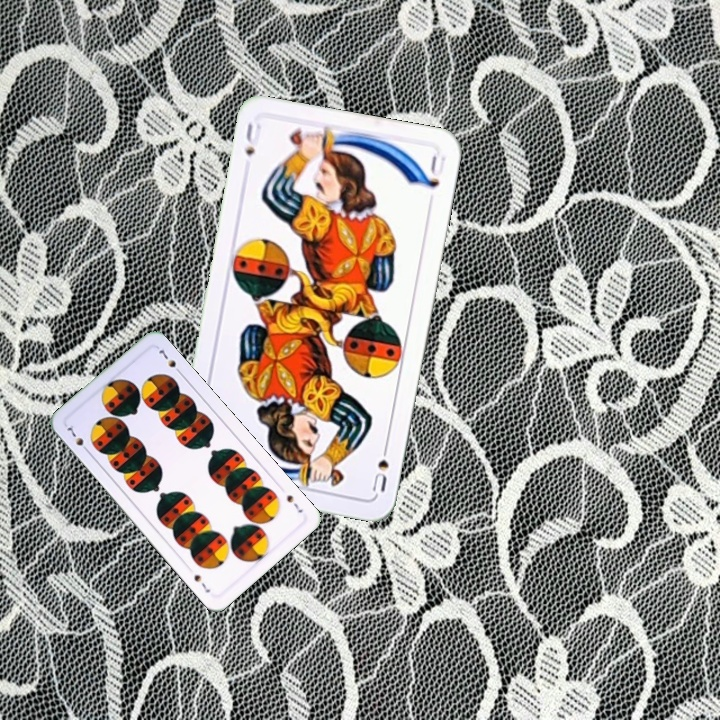S7: (63, 420, 92, 456), (282, 491, 306, 516)
SU: (368, 438, 391, 494), (240, 118, 264, 159)
